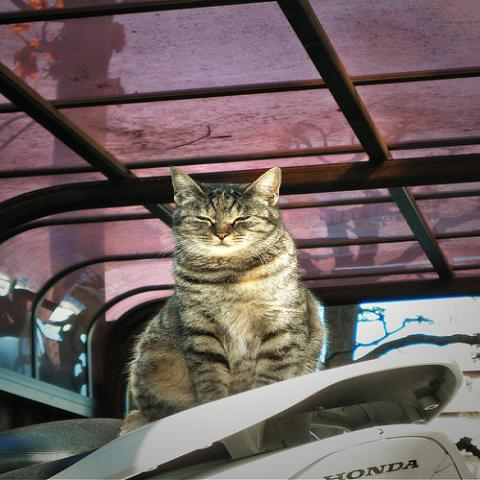motorcycle: (0, 352, 478, 479)
